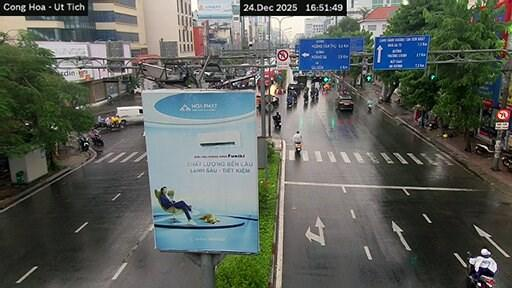motorbike: (466, 252, 494, 287), (475, 140, 495, 154), (78, 135, 89, 151), (90, 132, 103, 145), (501, 151, 511, 166), (273, 115, 282, 130), (311, 88, 318, 101), (295, 142, 301, 153), (287, 95, 292, 107), (304, 93, 308, 104), (367, 103, 372, 111)
